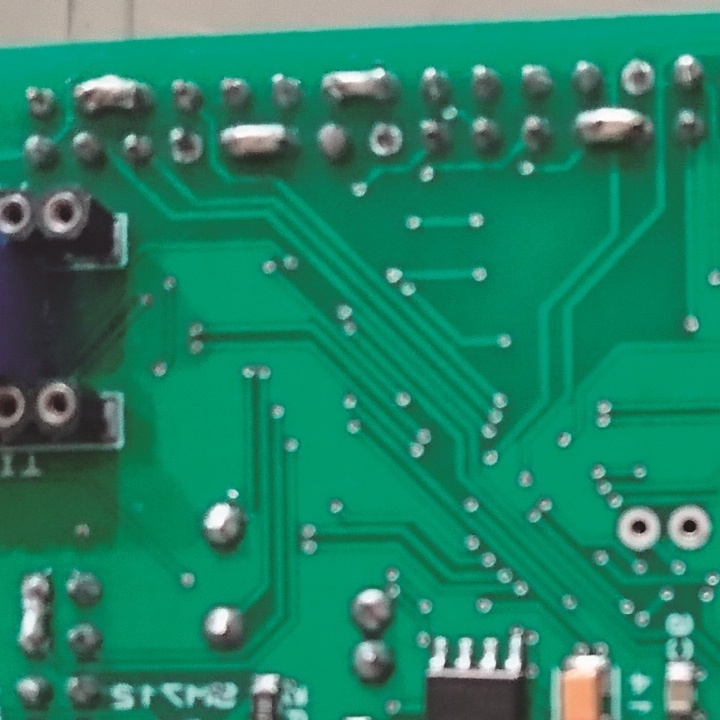F: (664, 497, 713, 551), (614, 503, 663, 554), (164, 126, 205, 164), (619, 58, 656, 96), (367, 120, 404, 158)
P: (569, 104, 651, 146), (13, 572, 52, 657), (218, 119, 296, 157), (72, 75, 147, 112), (319, 67, 396, 101)
